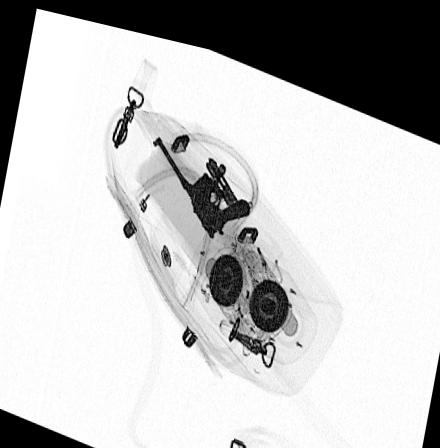Gun: (152, 128, 250, 228)
